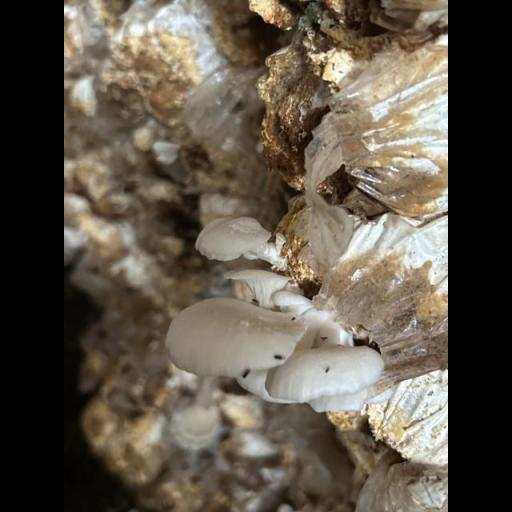White Oyster Mushroom: (168, 215, 388, 411)
